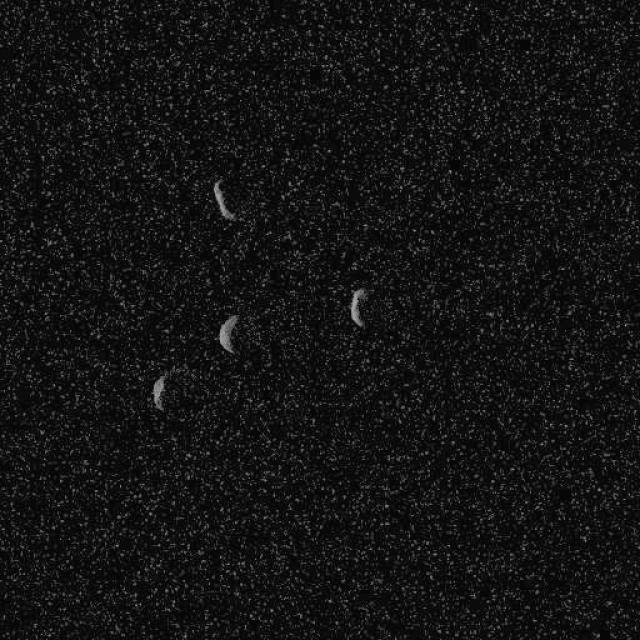D2: (211, 178, 239, 222), (216, 313, 239, 355), (348, 286, 368, 329), (152, 375, 166, 411)
